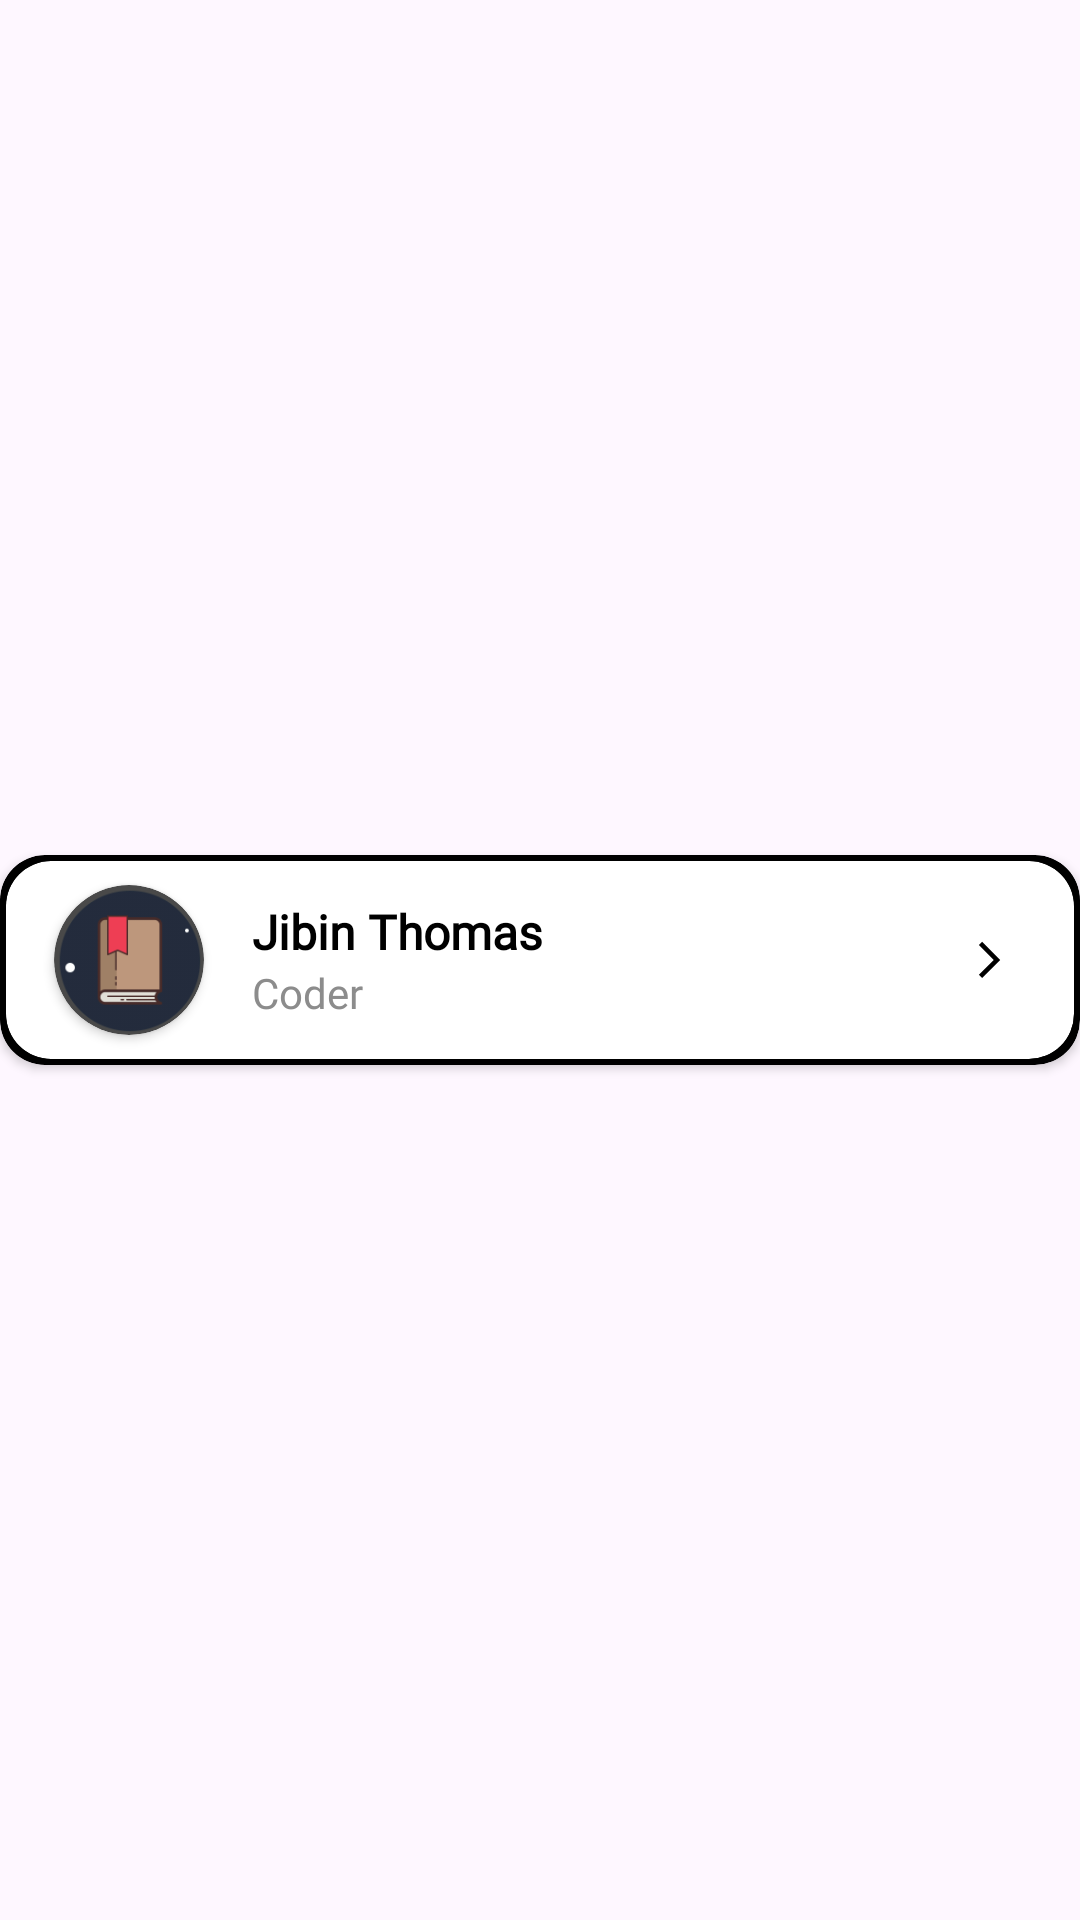

Point at icon controls on the screen. Image size 1080x1920, points as (x=x, y=y).
bookmarkimg: (x=129, y=960)
right arrow: (x=989, y=960)
